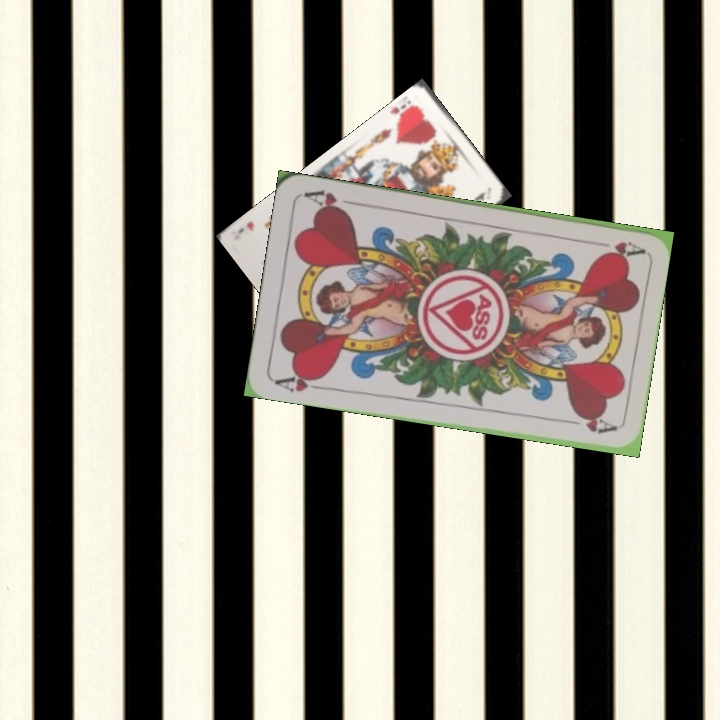HA: (270, 368, 330, 395), (586, 236, 645, 259)
HK: (391, 96, 421, 127)
